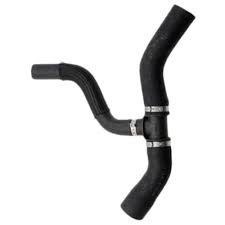radiator_hose: (122, 5, 197, 219)
